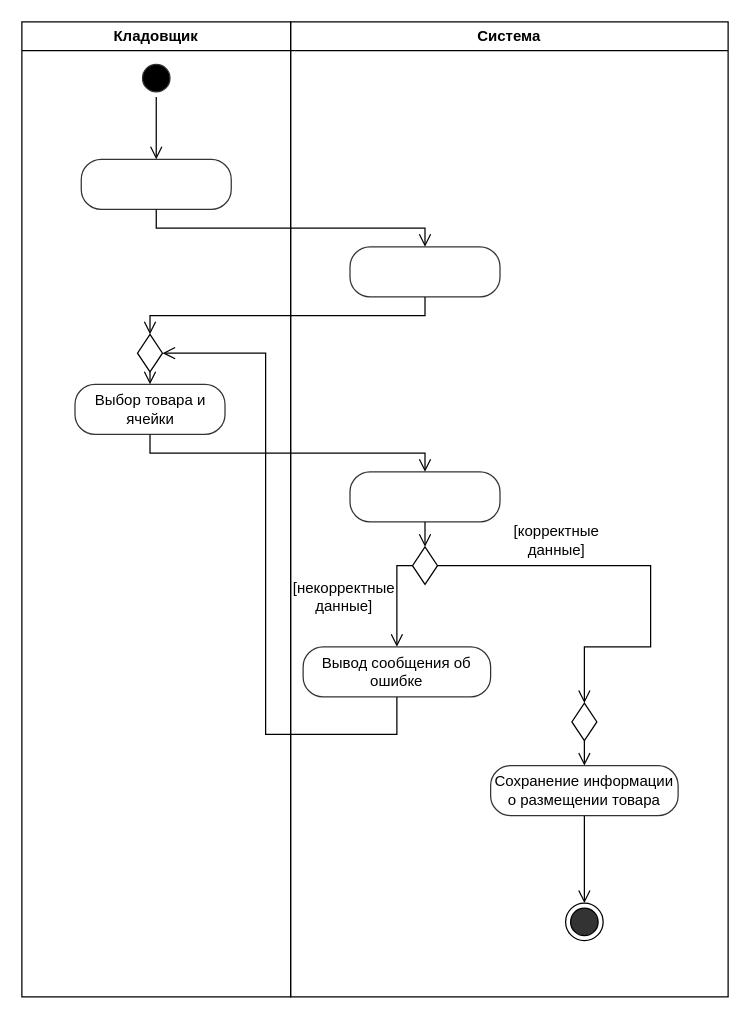
This 750x1019 diagram has some shape labels left out. The centre of each missing label's shape, as x and y in pixels:
Выбор операции "Размещение товара": the point at 155,183
Отображение списка неразмещенных товаров: the point at 424,271
Проверка доступности ячейки: the point at 424,496
